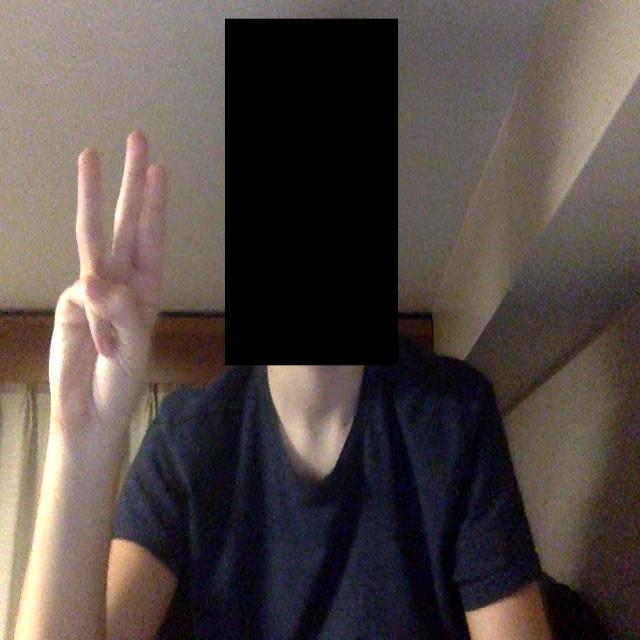W: (45, 110, 203, 452)
